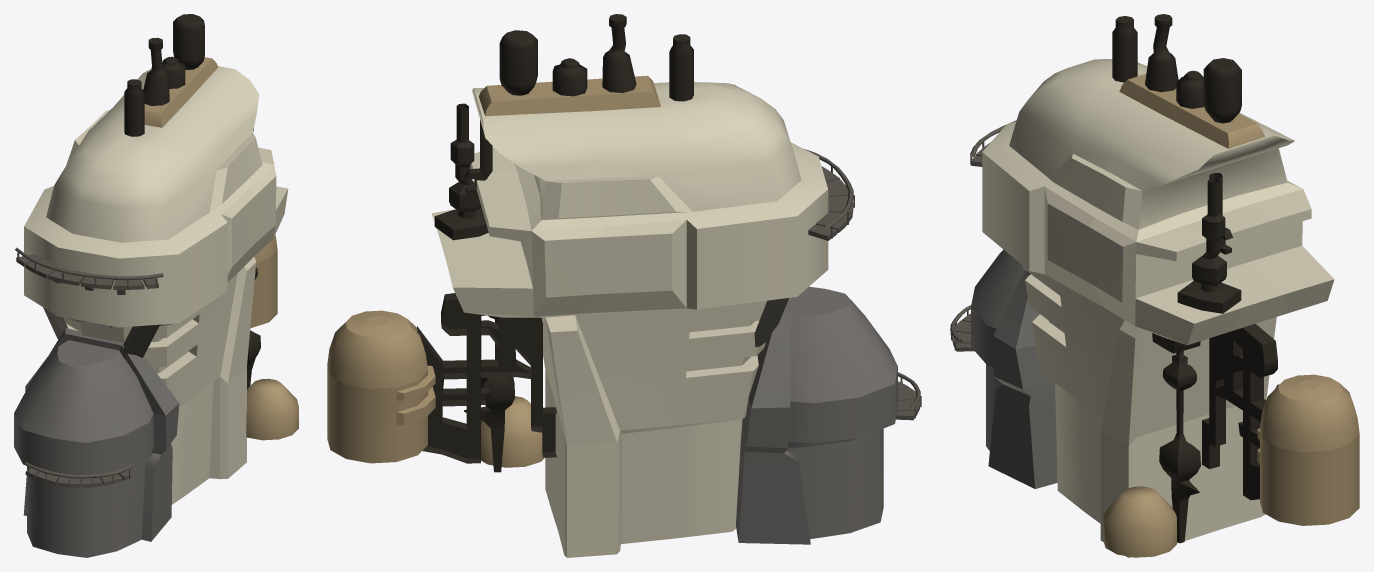
Rendered from MainBuilding.fbx.
3 renders of one model, left to right at view 1: azimuth 30°, elevation 25°; view 2: azimuth 150°, elevation 25°; view 3: azimuth 270°, elevation 25°, orthographic. The views are drawn at different scales.
Parts seen in each view (by area): view 1: MainBuilding, LwrBuilding, SmBldgByGuards, BldgByGrid, Exhausts, RoundExhaust_04, MainBldgRailBridg, TallExhaust_02, FrontExhaust_01, LwrRailBrdge, MainBldgSupportA, MainBldgRail (+3 smaller); view 2: MainBuilding, LwrBuilding, BldgByGrid, MainBldgGridPipes, Exhausts, MainBldgBackSmokeStack, SmBldgByGuards, RoundExhaust_04, RoundedSupportBeam, TallExhaust_02, FrontExhaust_01, MainBldgRailBridg (+2 smaller); view 3: MainBuilding, LwrBuilding, BldgByGrid, MainBldgGridPipes, SmBldgByGuards, MainBldgBackSmokeStack, RoundedSupportBeam, Exhausts, RoundExhaust_04, TallExhaust_02, FrontExhaust_01, SquatExhaust_03 (+1 smaller).
Boxes of the visible parts, x1,y1,x2,y2 form: MainBuilding: (24,66,288,504); LwrBuilding: (14,328,179,557); SmBldgByGuards: (246,378,298,440); BldgByGrid: (250,235,277,328); Exhausts: (144,57,218,127); RoundExhaust_04: (173,14,204,69); MainBldgRailBridg: (16,254,158,289); TallExhaust_02: (143,37,169,105); FrontExhaust_01: (124,79,144,136); LwrRailBrdge: (25,468,130,487); MainBldgSupportA: (123,324,159,357); MainBldgRail: (15,247,163,280); MainBuilding: (431,82,828,557); LwrBuilding: (736,286,897,544); BldgByGrid: (327,310,435,463); MainBldgGridPipes: (417,293,556,463); Exhausts: (479,75,660,116); MainBldgBackSmokeStack: (434,103,492,240); SmBldgByGuards: (481,396,544,467); RoundExhaust_04: (499,30,537,95); RoundedSupportBeam: (464,315,514,472); TallExhaust_02: (602,14,636,92); FrontExhaust_01: (669,34,693,101); MainBldgRailBridg: (808,166,853,240); MainBuilding: (982,59,1334,557); LwrBuilding: (971,249,1057,488); BldgByGrid: (1257,374,1359,525); MainBldgGridPipes: (1202,323,1279,500); SmBldgByGuards: (1103,486,1176,557); MainBldgBackSmokeStack: (1177,173,1241,313); RoundedSupportBeam: (1152,333,1200,543); Exhausts: (1119,74,1264,148); RoundExhaust_04: (1203,58,1241,123); TallExhaust_02: (1145,14,1178,92); FrontExhaust_01: (1112,16,1137,82); SquatExhaust_03: (1176,70,1204,108).
Size of the model in its own units: 99.21 by 110 by 81.78.
